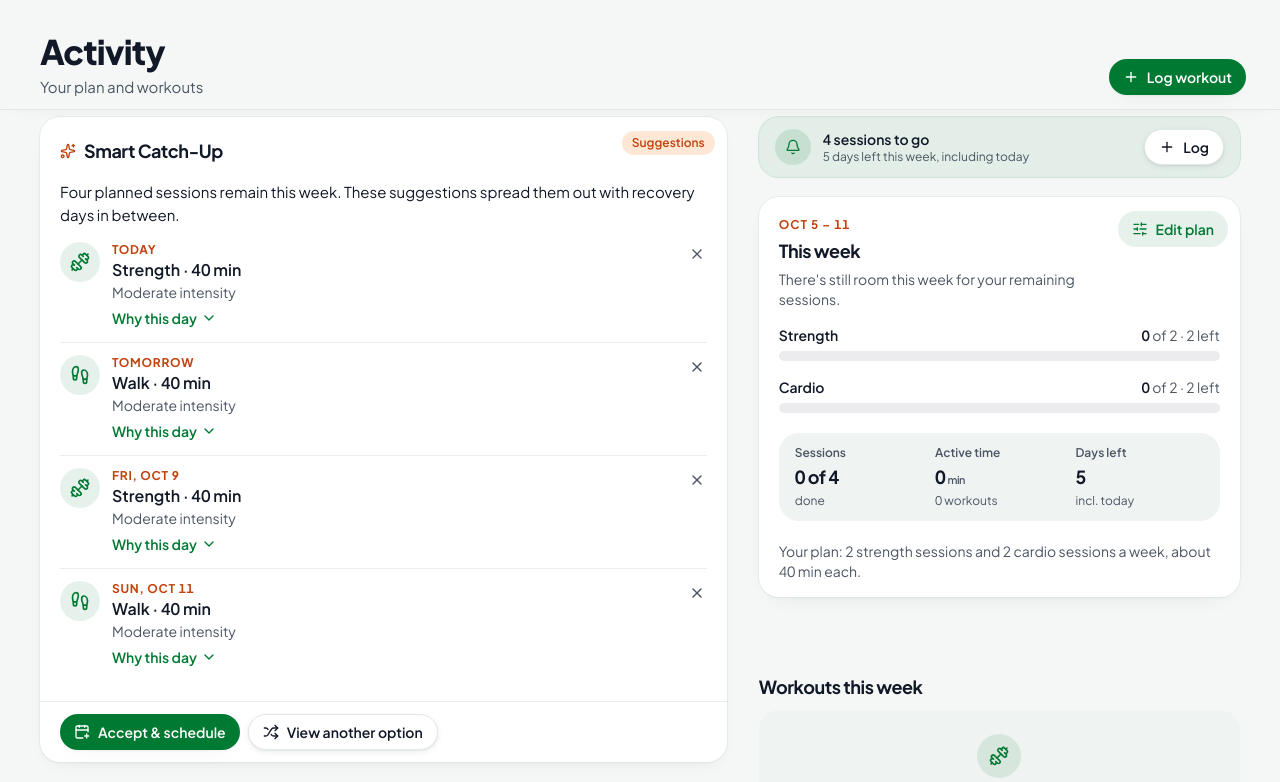
it: Activity: logging workouts › logs a run with the informational estimate and updates weekly progress
The image size is (1280, 782).
Check: the heading "This week" is shown, box [779,239,860,262]
Click the button "Log workout" at (1177,77), box [1109,59,1246,95]
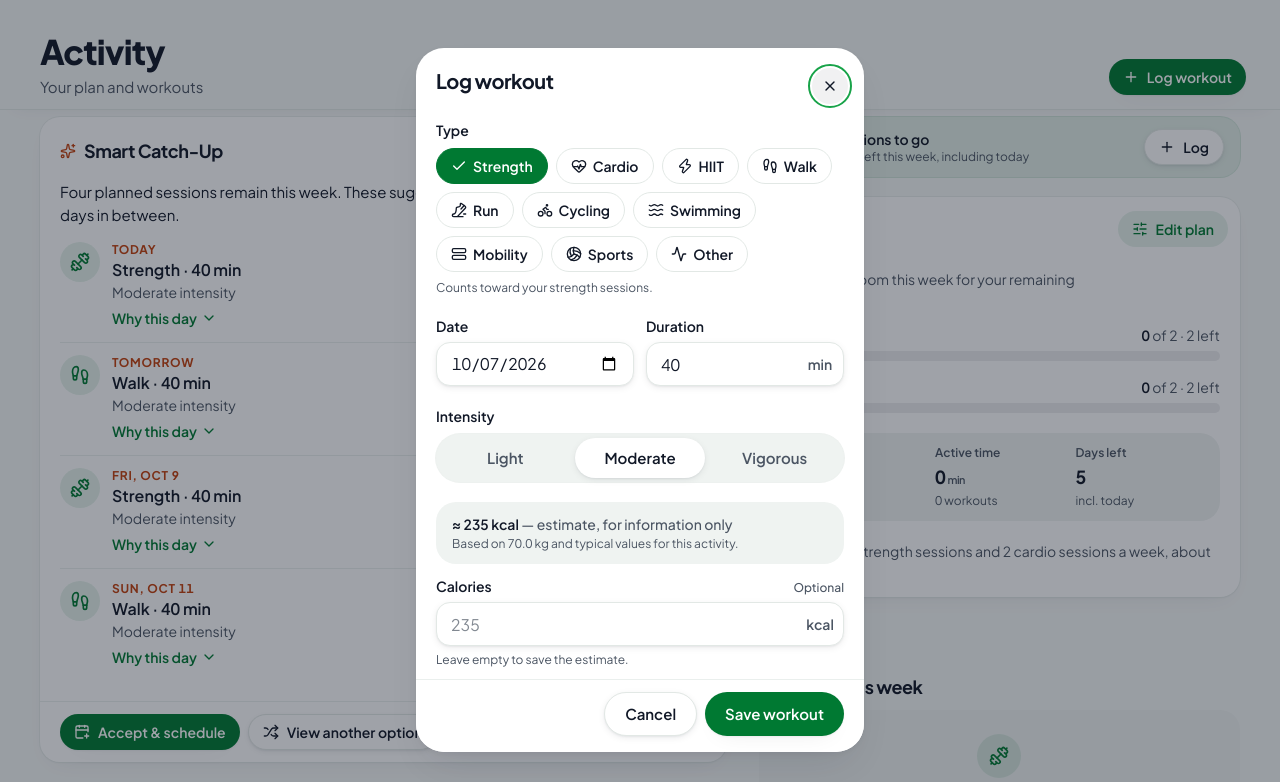
Click the button "Run" at (475,210), box [436,192,514,228]
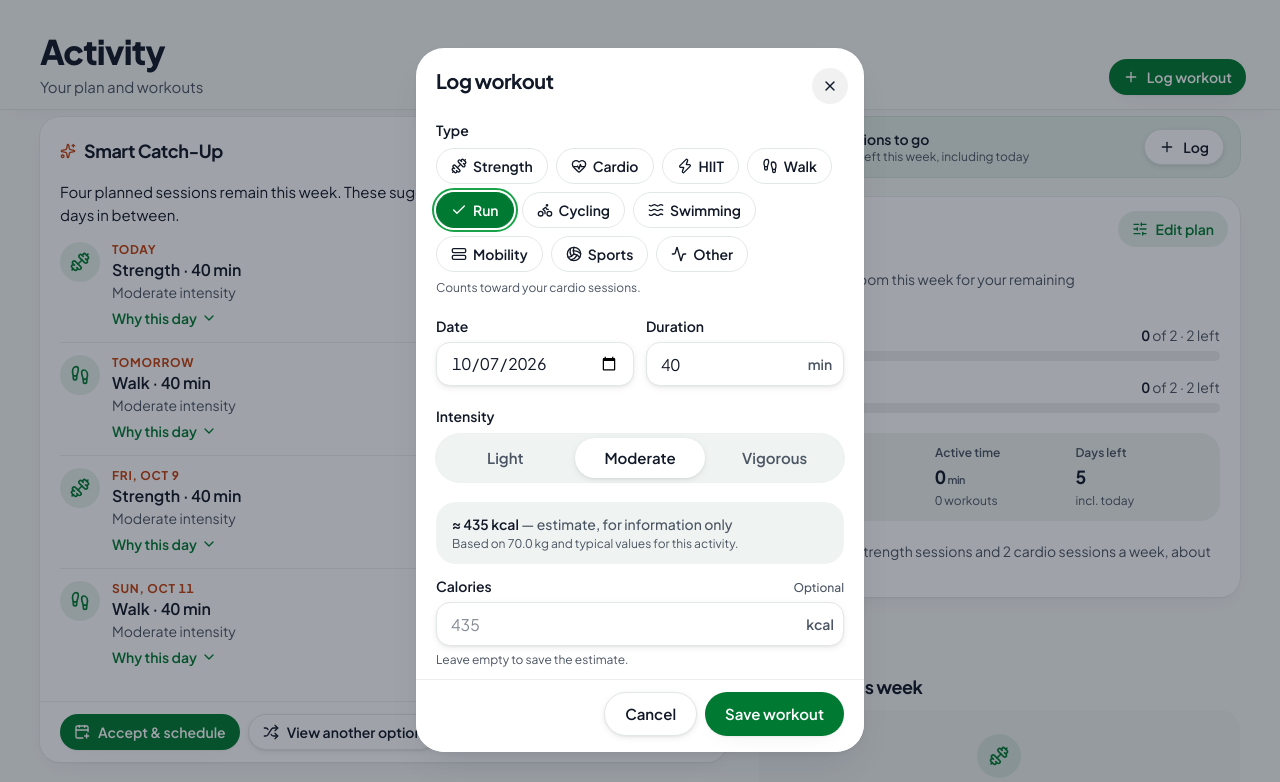
Check: the text "Counts toward your cardio sessions." is shown, box [436,280,641,295]
Replace the text in the field labelled "Duration" with "30" at (745,364), box [646,342,844,386]
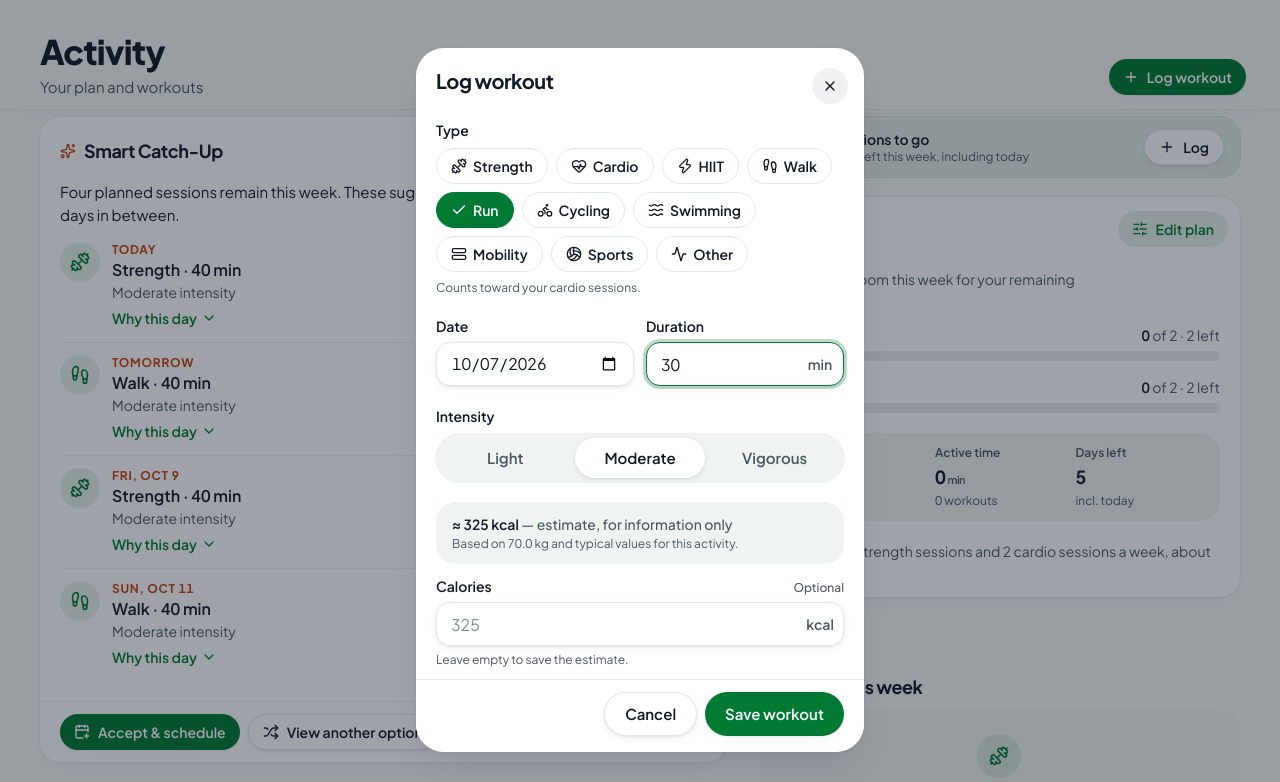
Check: the text "— estimate, for information only" is shown, box [519,515,732,533]
Check: the text "≈ 325 kcal" is shown, box [452,515,519,533]
Click the button "Save workout" at (775,714), box [705,692,844,736]
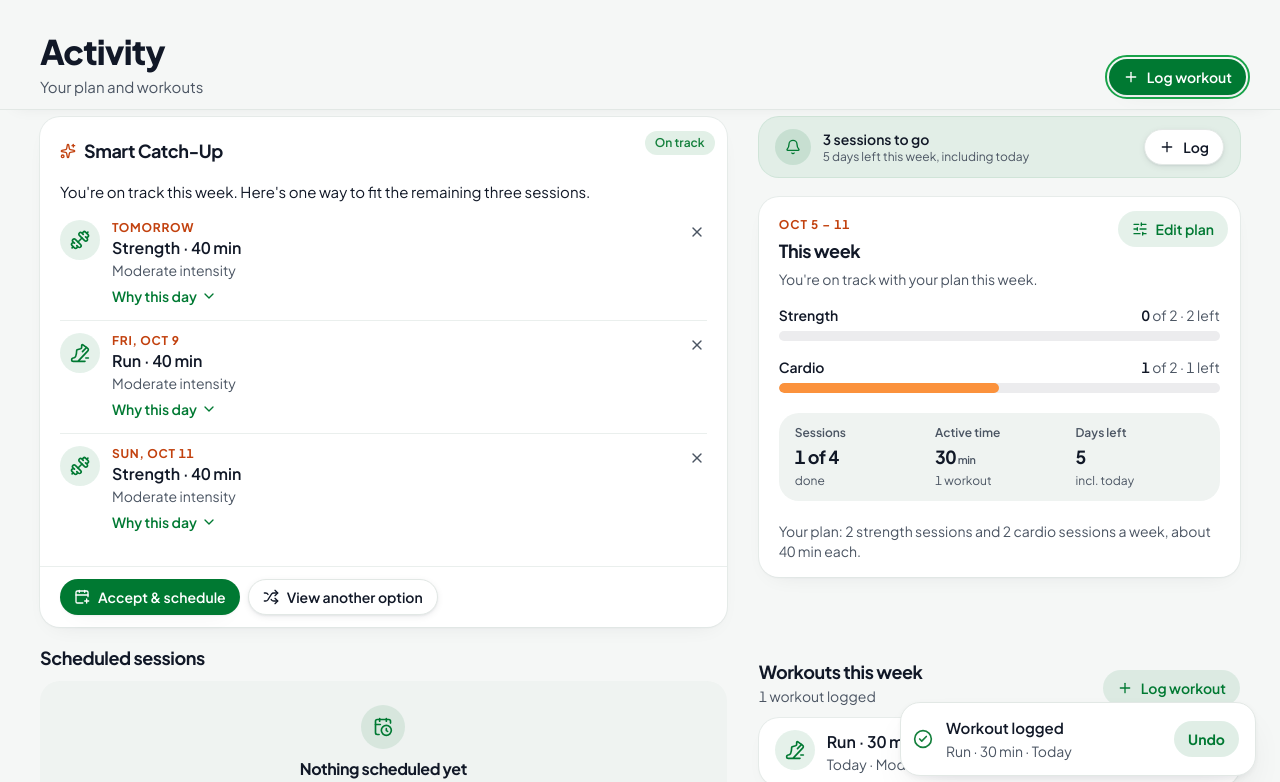
Check: the text "Workout logged" is shown, box [946,716,1072,739]
Check: the text "Run · 30 min" is shown, box [827,730,917,754]
